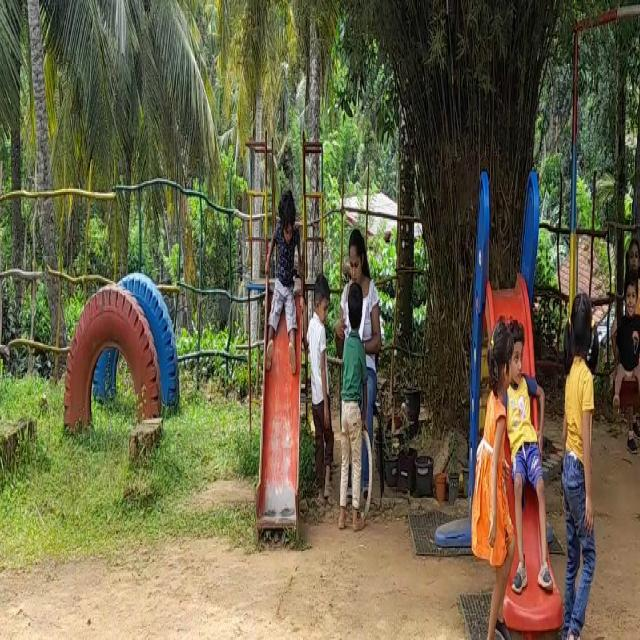child: (557, 285, 603, 640), (465, 324, 512, 640), (510, 313, 557, 594), (338, 293, 369, 532), (263, 186, 300, 365), (306, 269, 334, 505), (616, 275, 640, 432)
